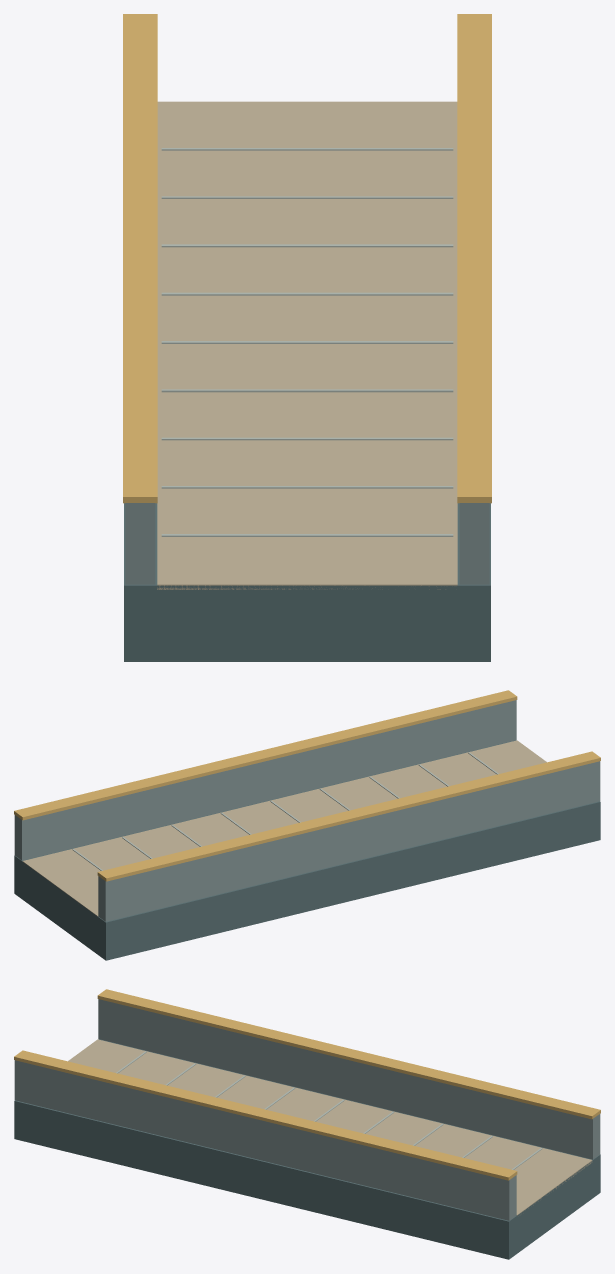
Rendered from SM_R02B_Corridor_1_2.fbx.
The picture shows the model from 3 angles, top to bottom: view 1: azimuth 30°, elevation 25°; view 2: azimuth 150°, elevation 25°; view 3: azimuth 270°, elevation 25°; orthographic projection. The views are drawn at different scales.
Visible parts, largest first — view 1: SM_R02B_Corridor_1_2; view 2: SM_R02B_Corridor_1_2; view 3: SM_R02B_Corridor_1_2.
Boxes of the visible parts, box(x1,y1,x2,y2) form: SM_R02B_Corridor_1_2: box(123, 14, 491, 661); SM_R02B_Corridor_1_2: box(14, 690, 600, 960); SM_R02B_Corridor_1_2: box(14, 989, 600, 1259).
Bounding box in the file's own units: 14.82 × 19.52 × 3.03.
